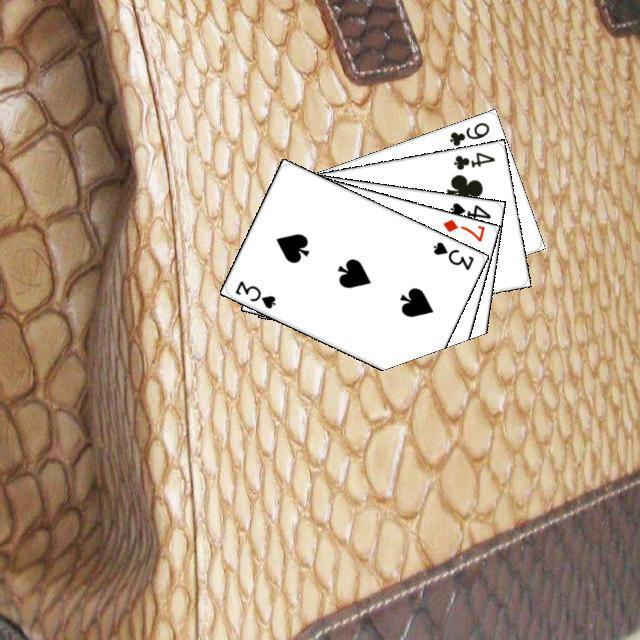3s: (428, 237, 476, 272), (230, 276, 277, 310)
4c: (448, 147, 496, 172)
4s: (445, 198, 492, 221)
7d: (438, 214, 486, 243)
9c: (444, 117, 491, 148)
